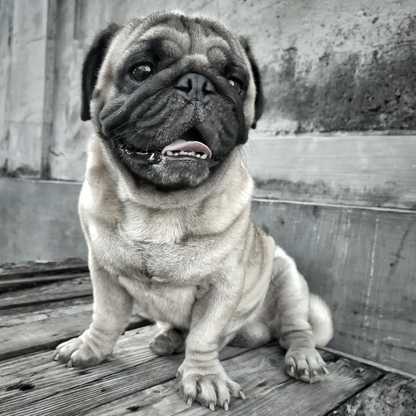Pug: (49, 6, 340, 412)
